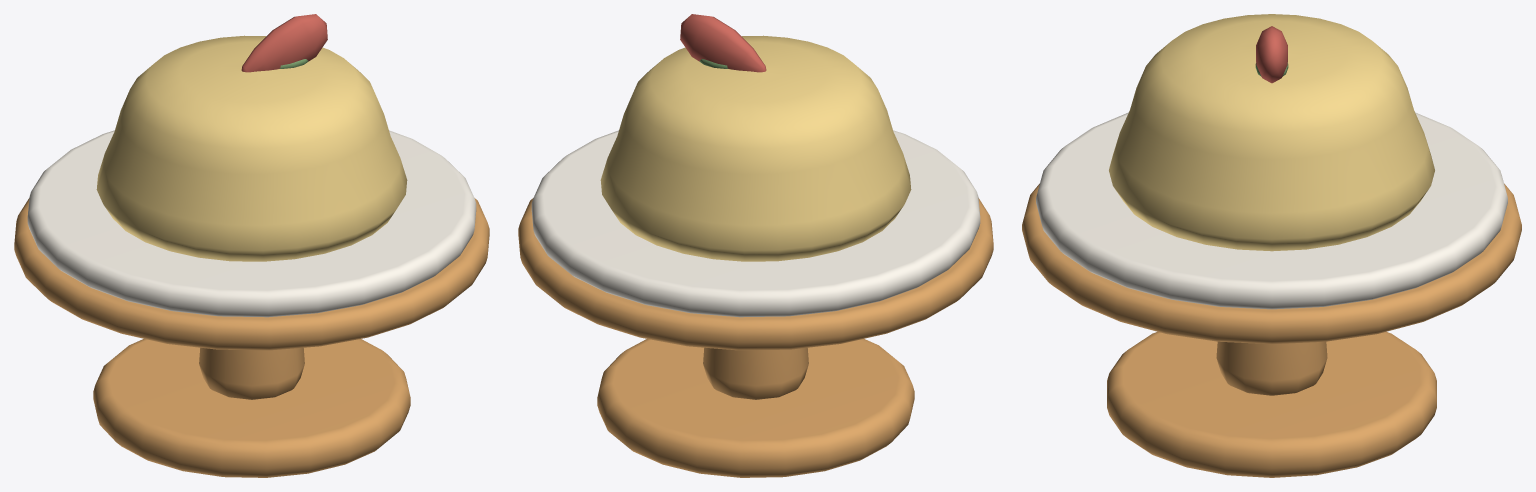
File: apple_jelly_plate.glb
3 renders of one model, left to right at view 1: azimuth 30°, elevation 25°; view 2: azimuth 150°, elevation 25°; view 3: azimuth 270°, elevation 25°, orthographic. The views are drawn at different scales.
Visible parts, largest first — view 1: apple_jelly_plate_mesh; view 2: apple_jelly_plate_mesh; view 3: apple_jelly_plate_mesh.
Part boxes in pixels (x1=…): apple_jelly_plate_mesh: x1=14, y1=14, x2=489, y2=477; apple_jelly_plate_mesh: x1=518, y1=14, x2=993, y2=477; apple_jelly_plate_mesh: x1=1022, y1=14, x2=1521, y2=477.
Bounding box in the file's own units: 0.36 × 0.3242 × 0.36.
